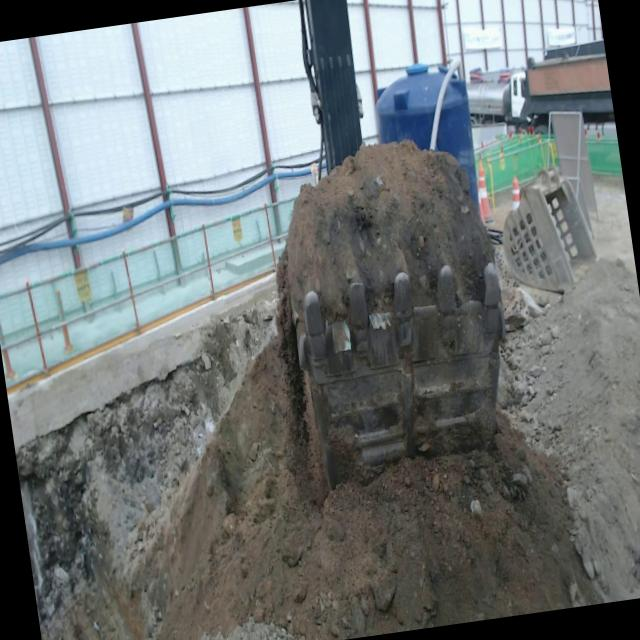cement: (8, 274, 276, 453)
red-sand: (63, 142, 640, 640)
